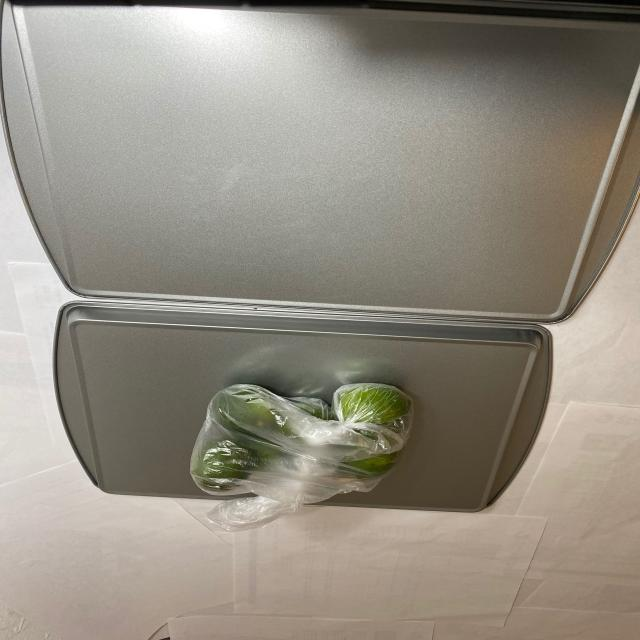lemon: (180, 382, 416, 503)
